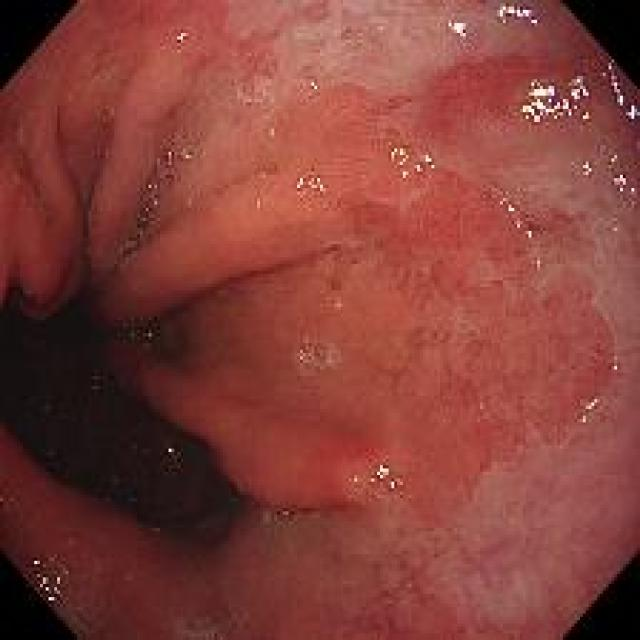bubbles: (113, 147, 184, 269), (292, 342, 333, 378), (175, 618, 223, 640), (256, 88, 271, 99), (35, 191, 45, 205), (102, 109, 112, 121), (244, 100, 253, 113)
contrast: (5, 313, 204, 535)
specularity: (522, 75, 589, 123), (601, 65, 626, 108), (39, 575, 60, 605), (497, 5, 533, 22), (296, 180, 325, 199), (448, 20, 466, 36), (391, 150, 409, 164), (615, 173, 626, 194), (587, 400, 600, 415), (628, 104, 639, 120), (378, 469, 392, 481), (389, 481, 404, 492), (584, 164, 593, 176), (178, 33, 188, 43), (582, 113, 591, 122), (311, 81, 318, 90), (34, 561, 42, 568), (516, 221, 522, 230), (527, 231, 533, 239), (425, 158, 432, 164), (508, 207, 514, 214), (402, 171, 407, 178), (531, 20, 539, 24), (371, 480, 377, 485), (167, 153, 172, 159), (418, 166, 421, 173), (631, 189, 635, 194)
